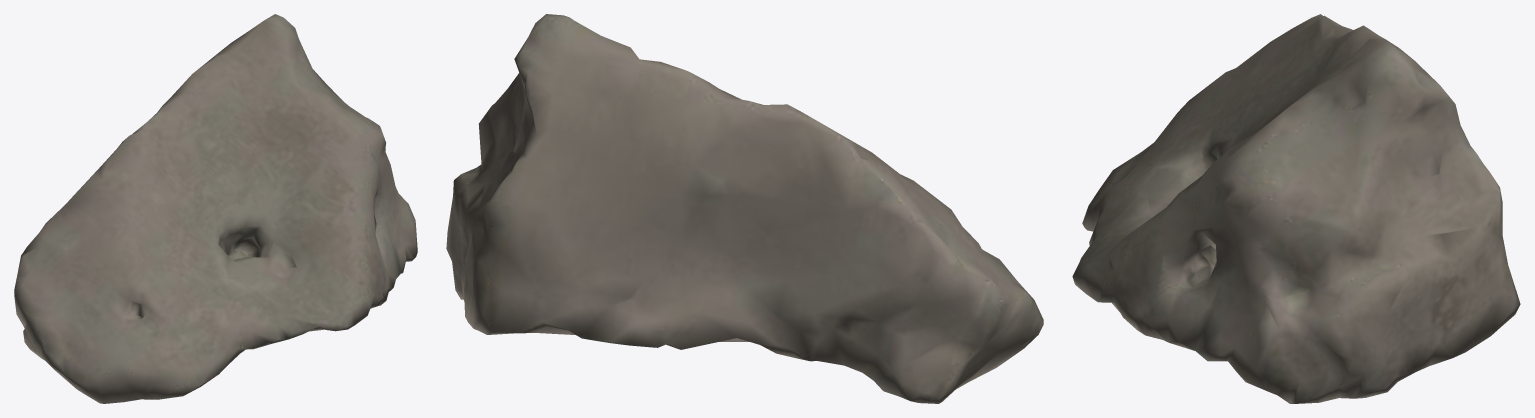
Rendered from ph-moon-rock-07.glb.
3 renders of one model, left to right at view 1: azimuth 30°, elevation 25°; view 2: azimuth 150°, elevation 25°; view 3: azimuth 270°, elevation 25°, orthographic. The views are drawn at different scales.
Parts seen in each view (by area): view 1: ph-moon-rock-07_LOD0; view 2: ph-moon-rock-07_LOD0; view 3: ph-moon-rock-07_LOD0.
Boxes of the visible parts, x1,y1,x2,y2 form: ph-moon-rock-07_LOD0: [14, 14, 417, 403]; ph-moon-rock-07_LOD0: [446, 14, 1043, 403]; ph-moon-rock-07_LOD0: [1072, 14, 1520, 403].
Size of what is drawn, in the model's own units: 1 by 0.62 by 0.7627.
Materials: 1 (1 with a texture image).
